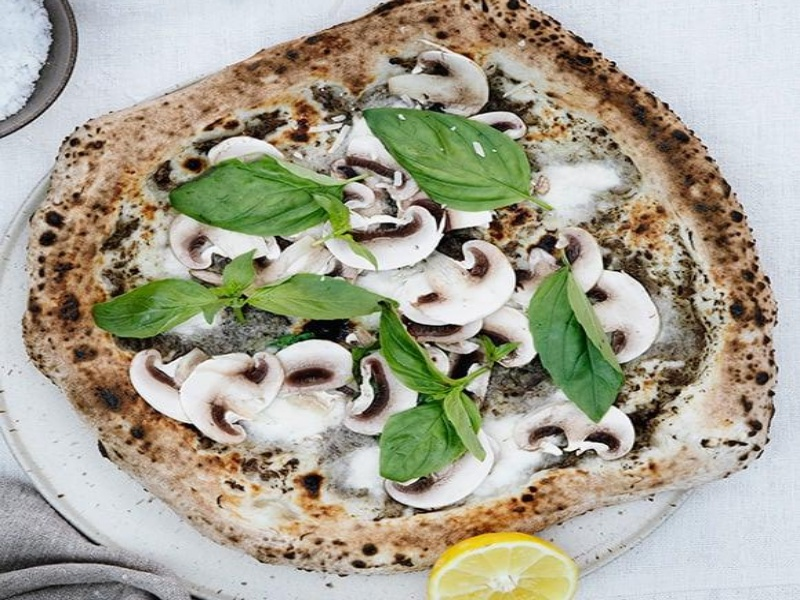champignon: (398, 241, 519, 333), (171, 347, 265, 453), (579, 262, 666, 372), (317, 202, 446, 273), (338, 349, 431, 442), (383, 46, 498, 119), (512, 401, 642, 462), (270, 339, 367, 392)
